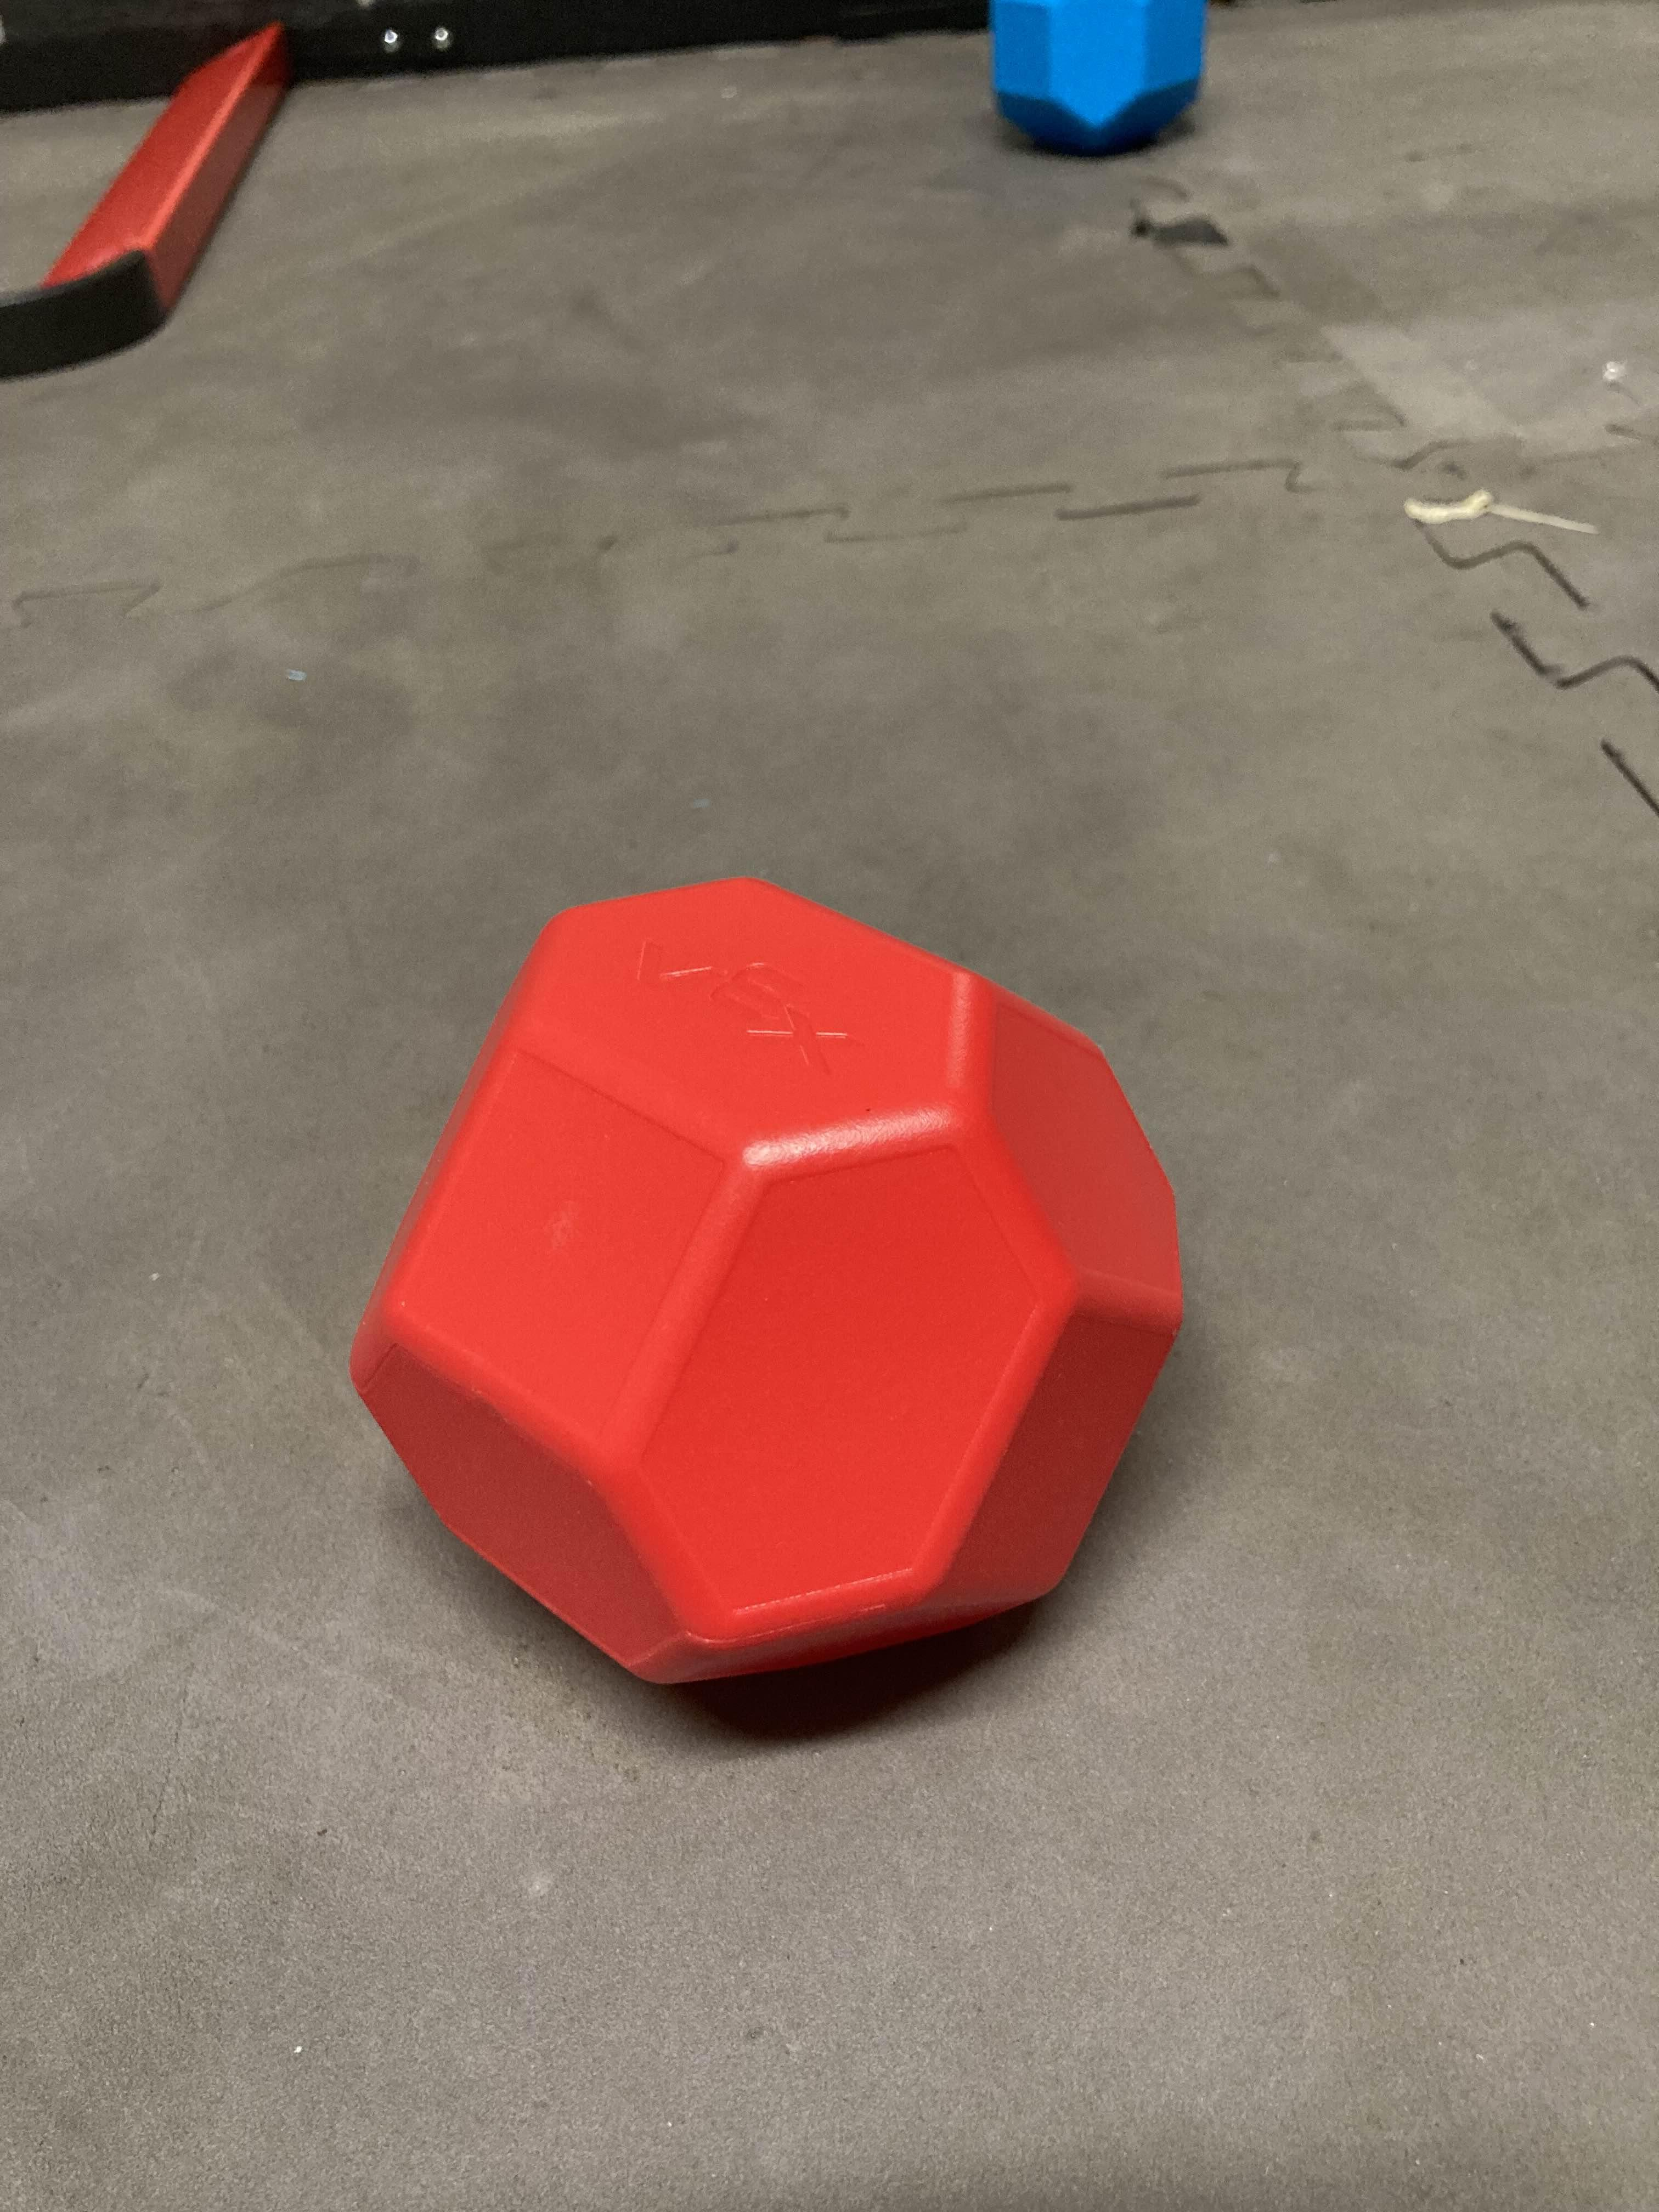Vex-Pieces-RED: (347, 878, 1187, 1698)
